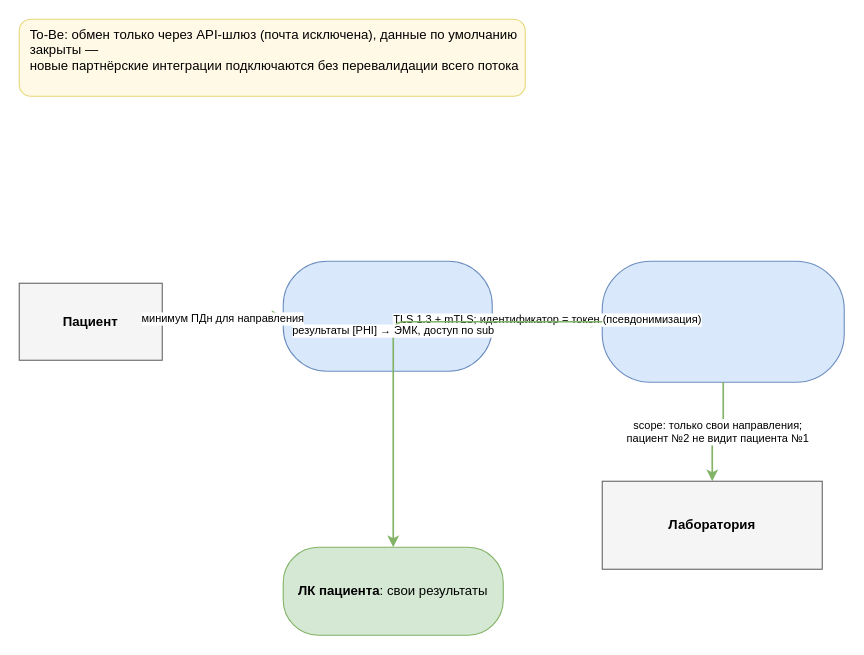
The diagram is 864 pixels wide and 655 high, and some of its shapes have lost their labels. Here are the shapes that lost their labels. From the top down, the box of each, then its label:
(282, 260, 492, 371): 4'. Направление в CRM
(601, 260, 844, 382): API-шлюз лаборатории OAuth 2.0 scopes; контракт скрывает PHI
